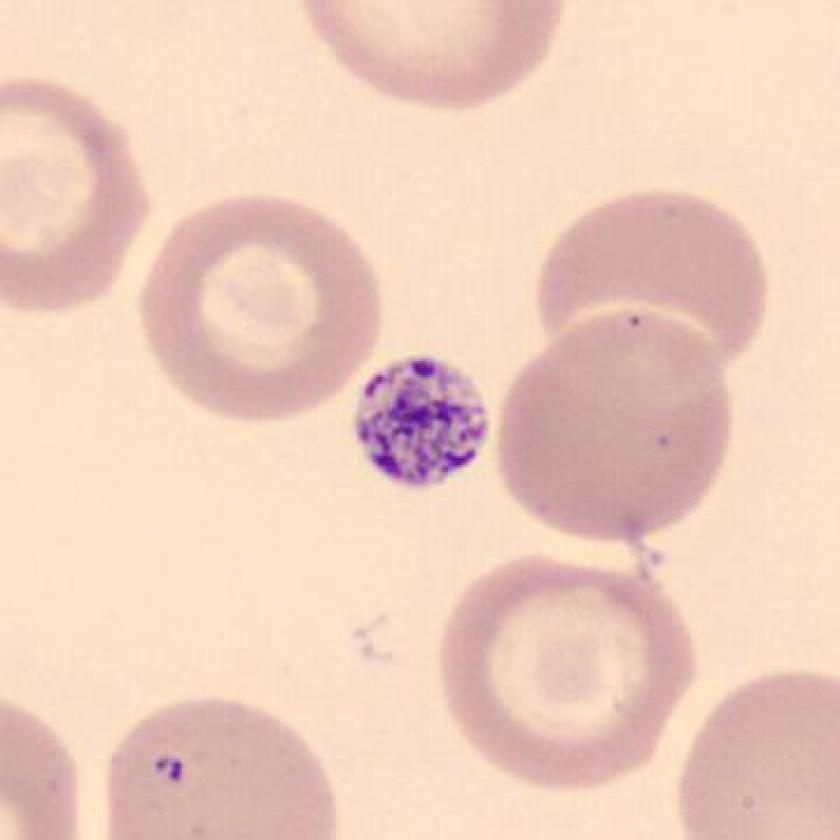platelets: (347, 346, 494, 503)
